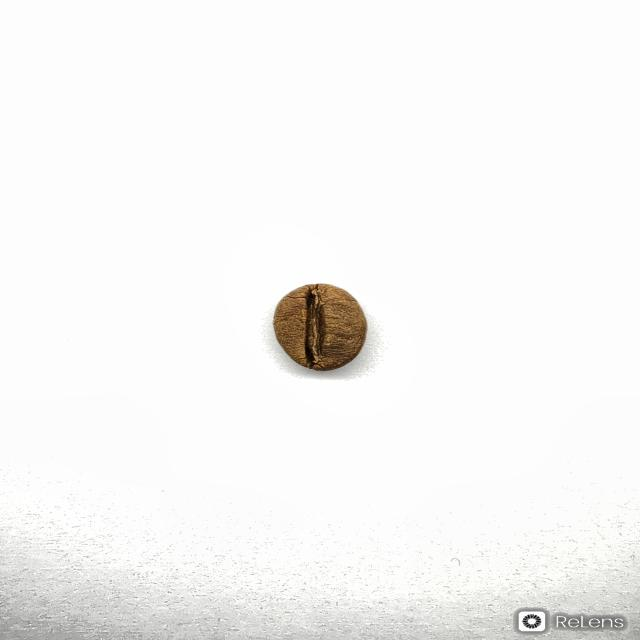Good bean: (272, 282, 368, 371)
